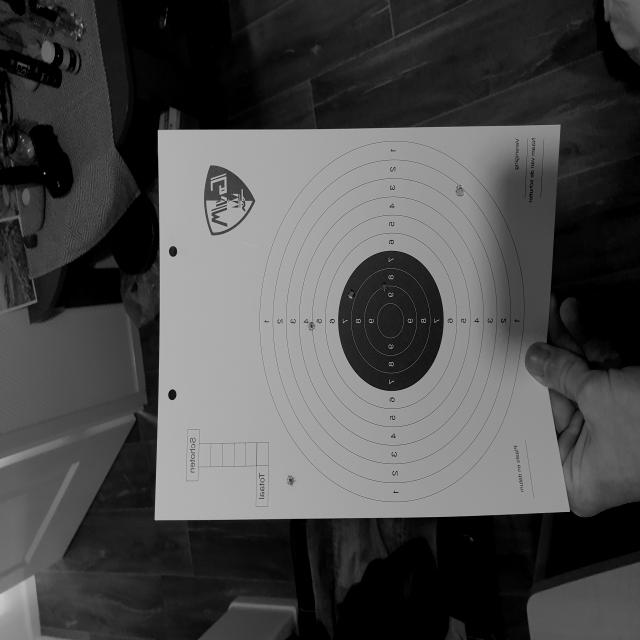0: (286, 475, 296, 487)
2: (456, 184, 464, 197)
5: (306, 321, 316, 332)
7: (348, 289, 356, 300)
9: (380, 282, 389, 293)
Target: (258, 142, 525, 505)
black_contour: (337, 251, 444, 391)
